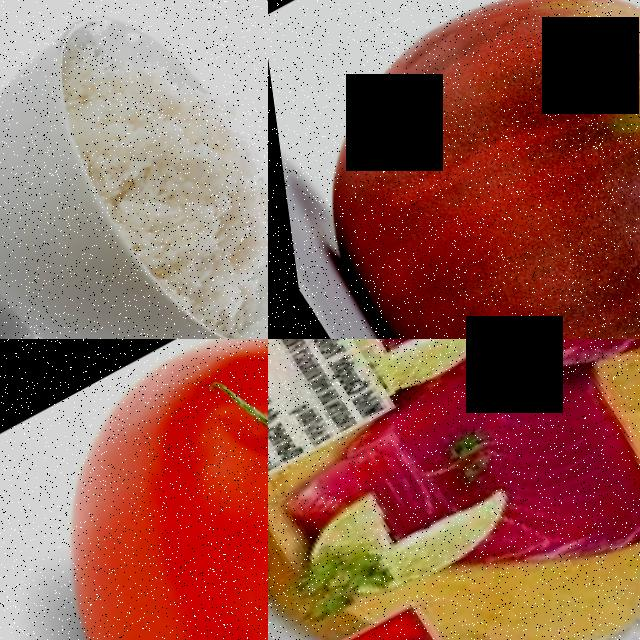tomato: (268, 0, 640, 339), (0, 339, 268, 640)
tuna: (468, 394, 640, 583)
white rice: (36, 36, 268, 339)
